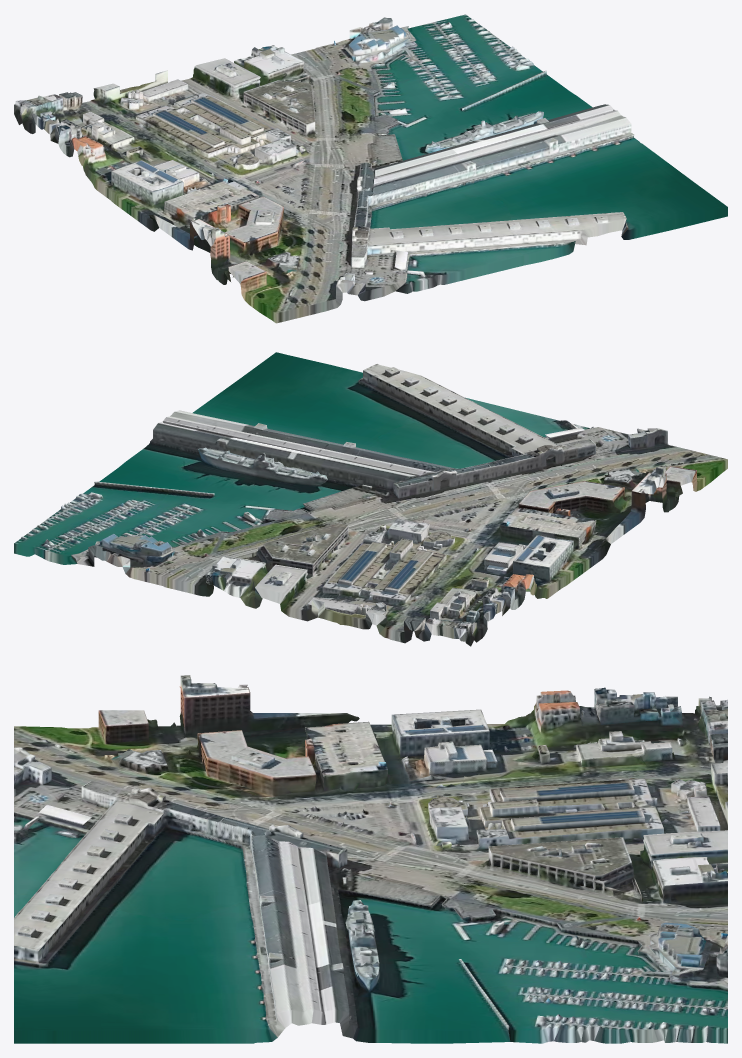
File: z16-10484-25323-h0-yup-uvflip-v3-world.glb
The picture shows the model from 3 angles, top to bottom: view 1: azimuth 30°, elevation 25°; view 2: azimuth 150°, elevation 25°; view 3: azimuth 270°, elevation 25°; orthographic projection. The views are drawn at different scales.
Size of the model in its own units: 483 by 51.2 by 485.
Materials: 1 (1 with a texture image).
